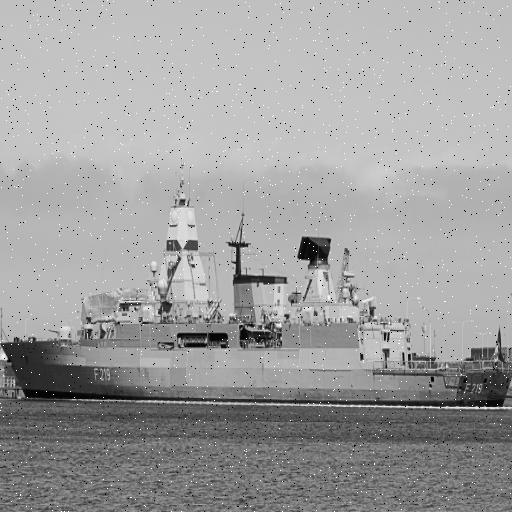Fragata: (1, 178, 512, 407)
